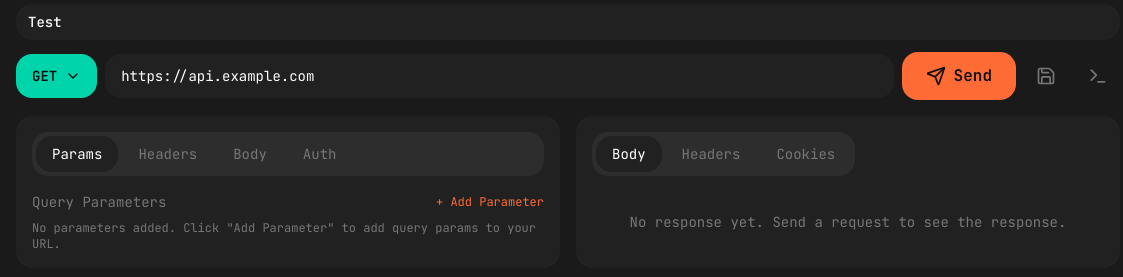
Test: RequestBuilder › shows auth tab with auth type selector
Note: Click the first auth button (request tab)
Step 1. Click the button "auth" → coordinates (320, 154), box [287,136,352,172]
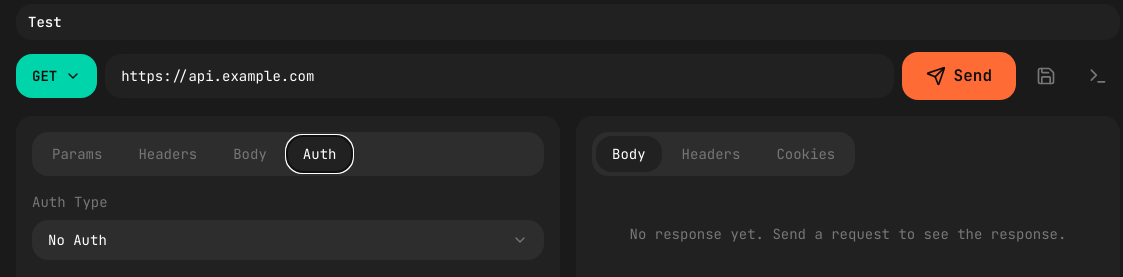
Check: the text "Auth Type" is shown, box [32,193,108,211]
